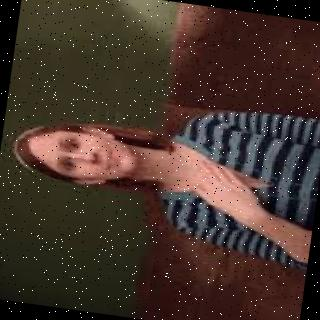Please: (178, 152, 260, 220)
